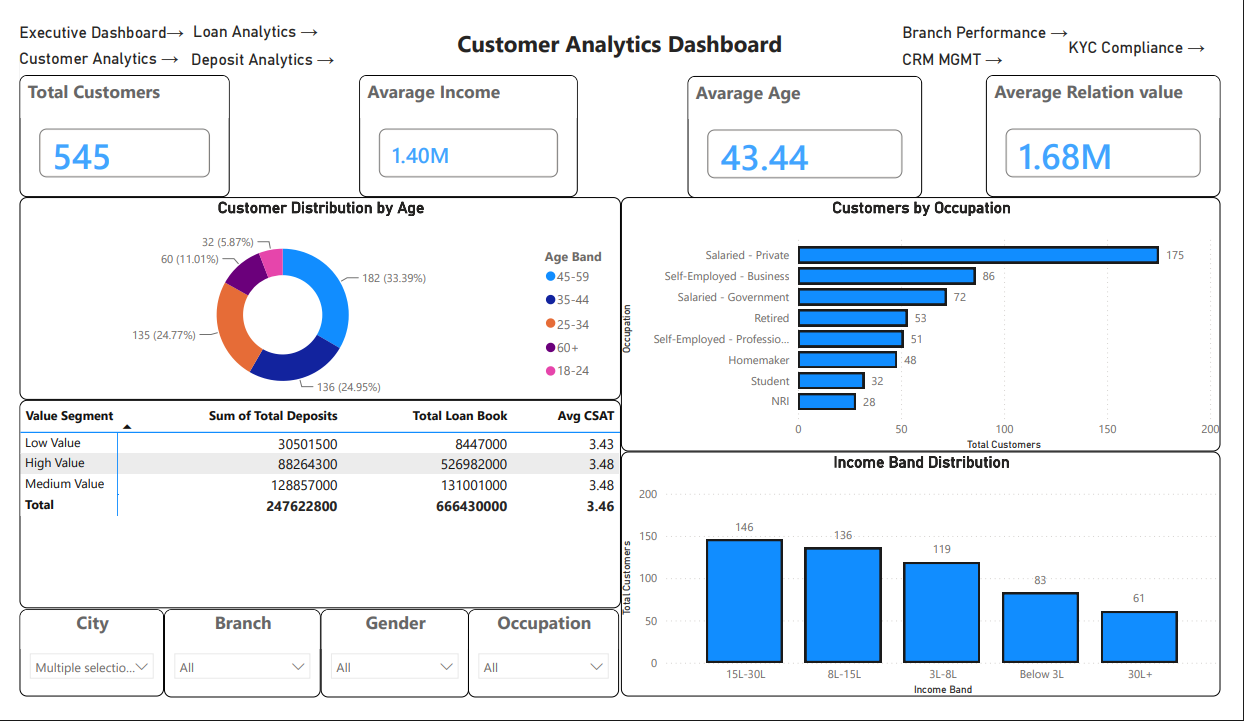

The dashboard page shown, as its layout file describes it:
{"tool":"powerbi","page":{"name":"Customer Analytics","canvas":[1280,720],"ordinal":1},"visuals":[{"type":"cardVisual","title":"Total Customers","fields":{"Data":["Mesures.Total Customers"]},"box":[0,56.7,224.4,130.3],"z":0},{"type":"textbox","box":[442.7,1.2,394.5,56.7],"z":1000},{"type":"cardVisual","title":"Average Income","fields":{"Data":["Customer Mesures.Average Income"]},"box":[361.9,56.7,232.8,130.3],"z":2000},{"type":"cardVisual","title":"Average Age","fields":{"Data":["Customer Mesures.Average Age"]},"box":[711.8,57.9,250,130],"z":3000},{"type":"cardVisual","title":"Average Relation value","fields":{"Data":["Customer Mesures.Average Relationship Value"]},"box":[1030,56.7,250,130],"z":4000},{"type":"donutChart","title":"Customer Distribution by Age","fields":{"Category":["Customers.Age Band"],"Y":["Mesures.Total Customers"]},"box":[0,187,640.6,216],"z":5000},{"type":"clusteredBarChart","title":"Customers by Occupation","fields":{"Category":["Customers.Occupation"],"Y":["Mesures.Total Customers"]},"box":[640.6,187,639.4,271.4],"z":6000},{"type":"columnChart","title":"Income Band Distribution","fields":{"Category":["Customers.Income Band"],"Y":["Mesures.Total Customers"]},"box":[640.6,458.4,639.4,260.6],"z":7000},{"type":"pivotTable","fields":{"Rows":["Customers.Value Segment"],"Values":["Sum(Customers.Total Deposits)","Mesures.Total Loan Book","Mesures.Avg CSAT"]},"box":[0,403,640.6,222],"z":8000},{"type":"slicer","title":"Branch","fields":{"Values":["Customers.Branch"]},"box":[154.4,626.1,166.5,94.1],"z":9000},{"type":"slicer","title":"City","fields":{"Values":["Customers.City"]},"box":[0,626.1,154.4,92.9],"z":10000},{"type":"slicer","title":"Gender","fields":{"Values":["Customers.Gender"]},"box":[320.9,626.1,158,94.1],"z":11000},{"type":"slicer","title":"Occupation","fields":{"Values":["Customers.Occupation"]},"box":[477.8,626.1,161.7,94.1],"z":12000},{"type":"actionButton","title":"Customer Analytics →","box":[0,27.7,177.3,29],"z":13000},{"type":"actionButton","title":"Loan Analytics →","box":[184.6,0,177.3,27.7],"z":14000},{"type":"actionButton","title":"Deposit Analytics →","box":[183.4,29,177.3,29],"z":15000},{"type":"actionButton","title":"Branch Performance →","box":[941,1.2,177.3,29],"z":16000},{"type":"actionButton","title":"CRM MGMT →","box":[941,29,160.5,29],"z":17000},{"type":"actionButton","title":"KYC Compliance →","box":[1118.4,15.7,155.6,29],"z":18000},{"type":"actionButton","title":"Executive Dashboard→","box":[0,1.2,177.3,29],"z":19001}]}

Visuals, with their boxes in screenshot pixels (x1, y1, x2, y2), scaled from the page's 1280x720 canvas onto the 1244x721 screenshot:
"Total Customers" cardVisual: [left=0, top=57, right=218, bottom=187]
textbox: [left=430, top=1, right=814, bottom=58]
"Average Income" cardVisual: [left=352, top=57, right=578, bottom=187]
"Average Age" cardVisual: [left=692, top=58, right=935, bottom=188]
"Average Relation value" cardVisual: [left=1001, top=57, right=1243, bottom=187]
"Customer Distribution by Age" donutChart: [left=0, top=187, right=623, bottom=404]
"Customers by Occupation" clusteredBarChart: [left=623, top=187, right=1243, bottom=459]
"Income Band Distribution" columnChart: [left=623, top=459, right=1243, bottom=720]
pivotTable - Customers.Value Segment x Sum(Customers.Total Deposits): [left=0, top=404, right=623, bottom=626]
"Branch" slicer: [left=150, top=627, right=312, bottom=720]
"City" slicer: [left=0, top=627, right=150, bottom=720]
"Gender" slicer: [left=312, top=627, right=465, bottom=720]
"Occupation" slicer: [left=464, top=627, right=622, bottom=720]
"Customer Analytics →" actionButton: [left=0, top=28, right=172, bottom=57]
"Loan Analytics →" actionButton: [left=179, top=0, right=352, bottom=28]
"Deposit Analytics →" actionButton: [left=178, top=29, right=351, bottom=58]
"Branch Performance →" actionButton: [left=915, top=1, right=1087, bottom=30]
"CRM MGMT →" actionButton: [left=915, top=29, right=1071, bottom=58]
"KYC Compliance →" actionButton: [left=1087, top=16, right=1238, bottom=45]
"Executive Dashboard→" actionButton: [left=0, top=1, right=172, bottom=30]
